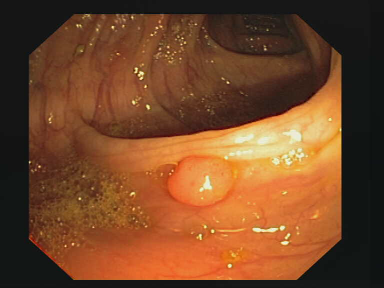polyp: (156, 141, 245, 210)
